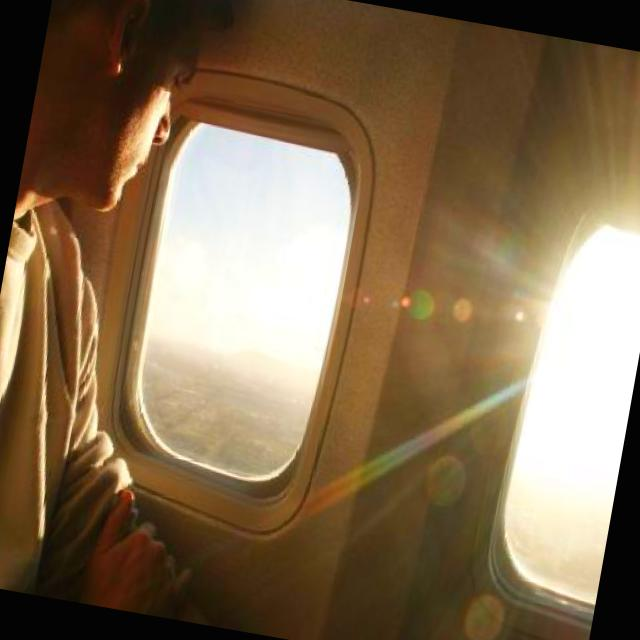Person: (0, 0, 213, 606)
